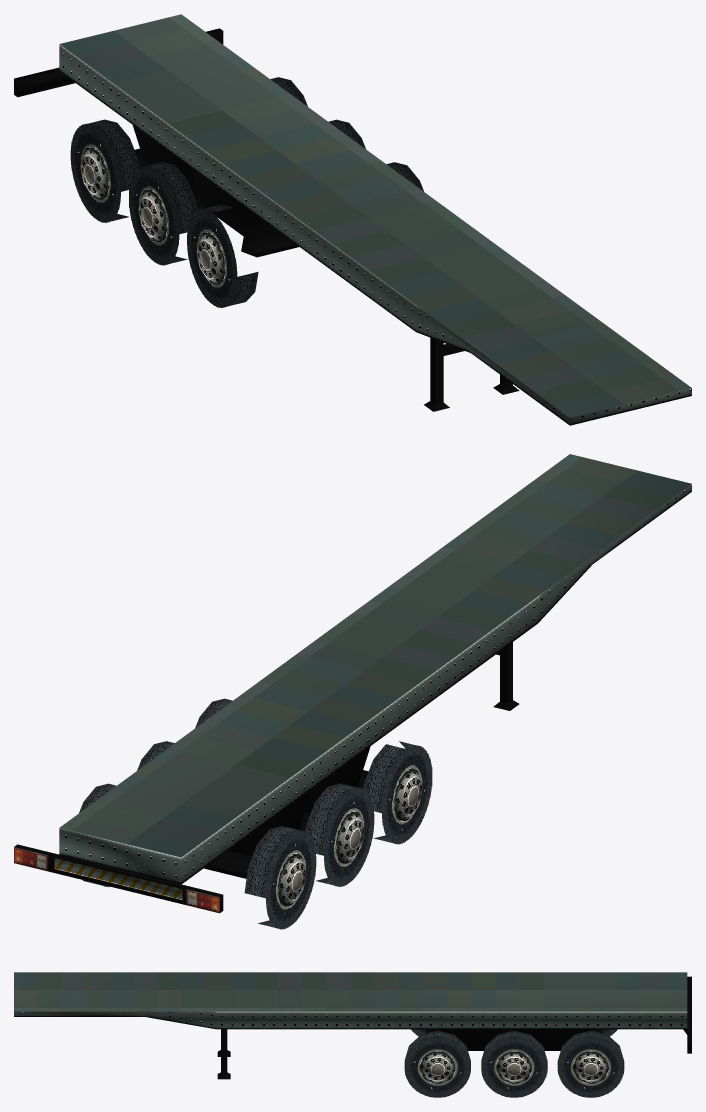
File: trailer (1).glb
3 views of the same model, one above another, from view 1: azimuth 30°, elevation 25°; view 2: azimuth 150°, elevation 25°; view 3: azimuth 270°, elevation 25° (orthographic). The views are drawn at different scales.
Visible parts, largest first — view 1: body_0, wheel_B_R3_7, wheel_B_R2_6, wheel_B_R1_5, stand_8, bumper_B_2; view 2: body_0, wheel_B_R3_7, wheel_B_R2_6, wheel_B_R1_5, bumper_B_2, stand_8; view 3: body_0, wheel_B_L3_1, wheel_B_L2_3, wheel_B_L1_4, stand_8, bumper_B_2.
Boxes of the visible parts, x1,y1,x2,y2 form: body_0: (59,14,691,425); wheel_B_R3_7: (70,119,139,222); wheel_B_R2_6: (129,162,197,265); wheel_B_R1_5: (187,204,258,307); stand_8: (424,337,519,411); bumper_B_2: (14,28,223,97); body_0: (59,454,691,884); wheel_B_R3_7: (244,826,316,929); wheel_B_R2_6: (305,783,374,886); wheel_B_R1_5: (363,741,432,844); bumper_B_2: (14,844,223,913); stand_8: (493,642,519,710); body_0: (14,972,687,1053); wheel_B_L3_1: (557,1030,624,1097); wheel_B_L2_3: (481,1030,547,1097); wheel_B_L1_4: (404,1030,470,1097); stand_8: (217,1029,230,1079); bumper_B_2: (683,976,691,1053).
Bounding box in the file's own units: 2.76 × 1.41 × 11.68.
Materials: 13 (11 with a texture image).
